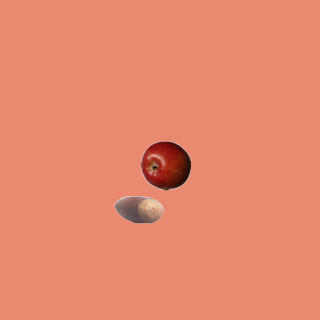Apple Braeburn: (140, 140, 190, 190)
Hazelnut: (113, 184, 163, 234)
